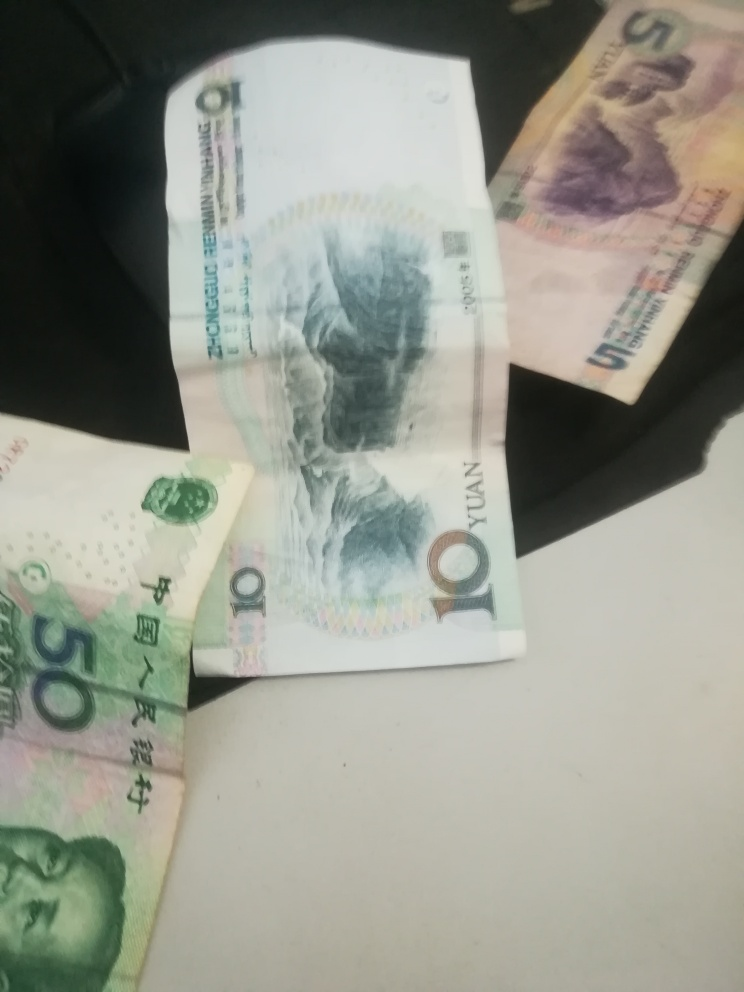rmb: (148, 36, 524, 680), (2, 418, 244, 987), (491, 1, 744, 411)
